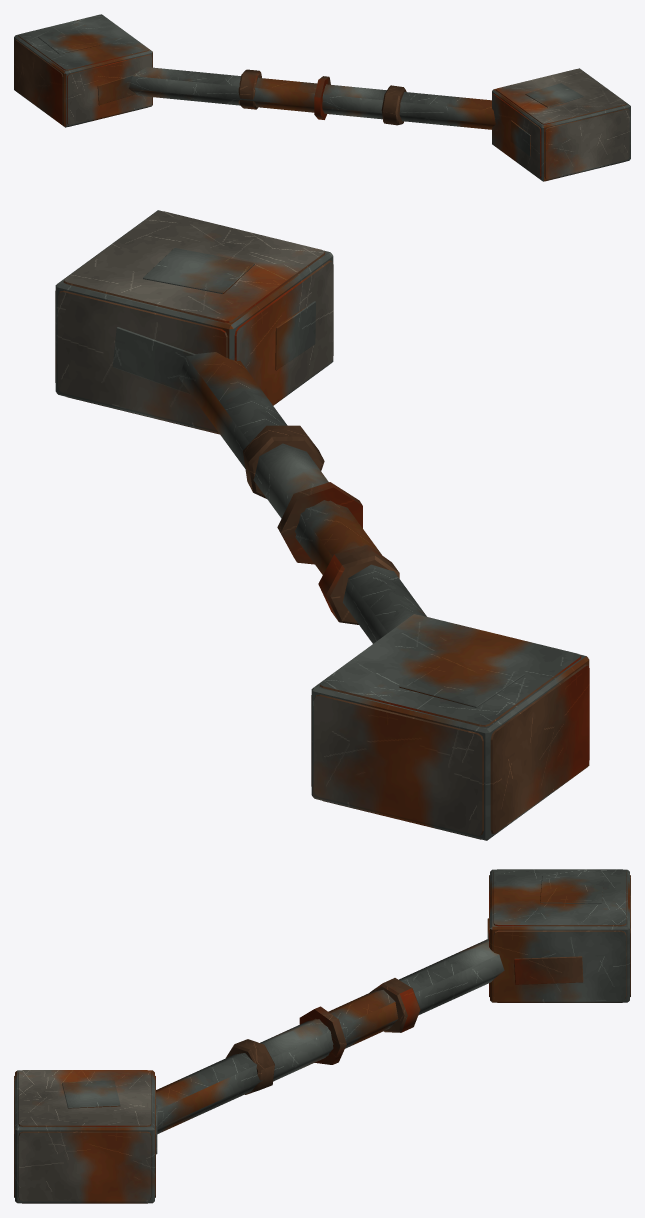
Rendered from R4C_ROD_DIAG_2D_LONG.glb.
The picture shows the model from 3 angles, top to bottom: view 1: azimuth 30°, elevation 25°; view 2: azimuth 150°, elevation 25°; view 3: azimuth 270°, elevation 25°; orthographic projection. The views are drawn at different scales.
Visible parts, largest first — view 1: R4C_ROD_DIAG_2D_LONG; view 2: R4C_ROD_DIAG_2D_LONG; view 3: R4C_ROD_DIAG_2D_LONG.
Part boxes in pixels (x1,y1,x2,y2): R4C_ROD_DIAG_2D_LONG: [14, 14, 630, 181]; R4C_ROD_DIAG_2D_LONG: [55, 210, 589, 840]; R4C_ROD_DIAG_2D_LONG: [14, 869, 630, 1203].
Size of the model in its own units: 1.62 by 0.232 by 1.62.
4 materials, 4 textured.
